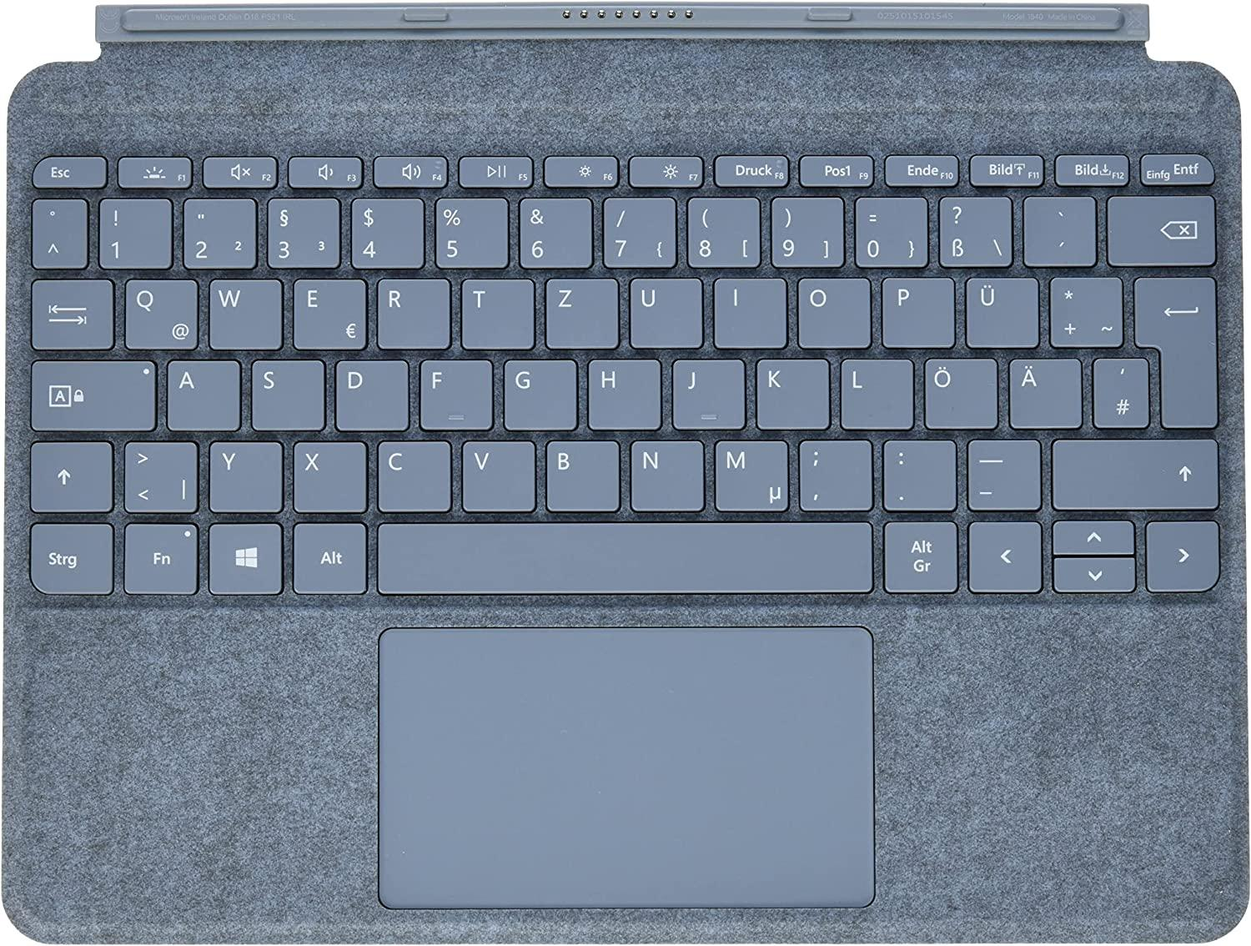0: (848, 191, 927, 267)
1: (94, 192, 171, 268)
2: (177, 192, 256, 268)
3: (260, 191, 339, 268)
4: (345, 191, 422, 266)
5: (429, 191, 507, 267)
6: (514, 191, 591, 267)
7: (598, 192, 676, 268)
8: (681, 192, 758, 267)
9: (765, 191, 842, 268)
a: (162, 354, 239, 430)
accent: (1018, 190, 1095, 264)
ae: (1004, 353, 1081, 427)
alt-left: (289, 517, 366, 593)
altgr-right: (878, 517, 957, 592)
b: (540, 435, 619, 510)
c: (371, 435, 450, 511)
caret: (27, 193, 86, 268)
comma: (793, 433, 871, 510)
d: (329, 354, 407, 430)
del: (1103, 189, 1217, 265)
e: (287, 274, 365, 349)
enter: (1130, 271, 1218, 428)
f: (414, 353, 491, 429)
g: (499, 353, 575, 428)
h: (582, 353, 659, 429)
hash: (1089, 352, 1148, 427)
i: (709, 273, 785, 346)
j: (667, 353, 743, 428)
k: (751, 353, 828, 427)
keyboard: (13, 133, 1236, 611)
l: (836, 353, 912, 428)
less: (118, 435, 197, 512)
m: (708, 435, 787, 511)
minus: (961, 434, 1039, 509)
n: (624, 435, 702, 511)
o: (791, 272, 870, 347)
oe: (919, 352, 997, 428)
p: (876, 271, 953, 346)
plus: (1043, 270, 1122, 345)
point: (877, 434, 955, 508)
q: (119, 274, 197, 349)
r: (372, 273, 450, 348)
s: (246, 354, 324, 430)
shift-left: (23, 435, 112, 511)
shift-lock: (23, 354, 155, 430)
shift-right: (1048, 433, 1219, 508)
space: (368, 516, 877, 594)
ss: (933, 191, 1012, 266)
strg-left: (22, 518, 113, 593)
t: (457, 274, 533, 348)
tab: (26, 273, 113, 348)
u: (625, 273, 701, 348)
ue: (960, 271, 1037, 347)
v: (456, 435, 535, 510)
w: (203, 273, 279, 349)
x: (288, 435, 365, 511)
y: (203, 435, 281, 511)
z: (540, 273, 618, 348)
